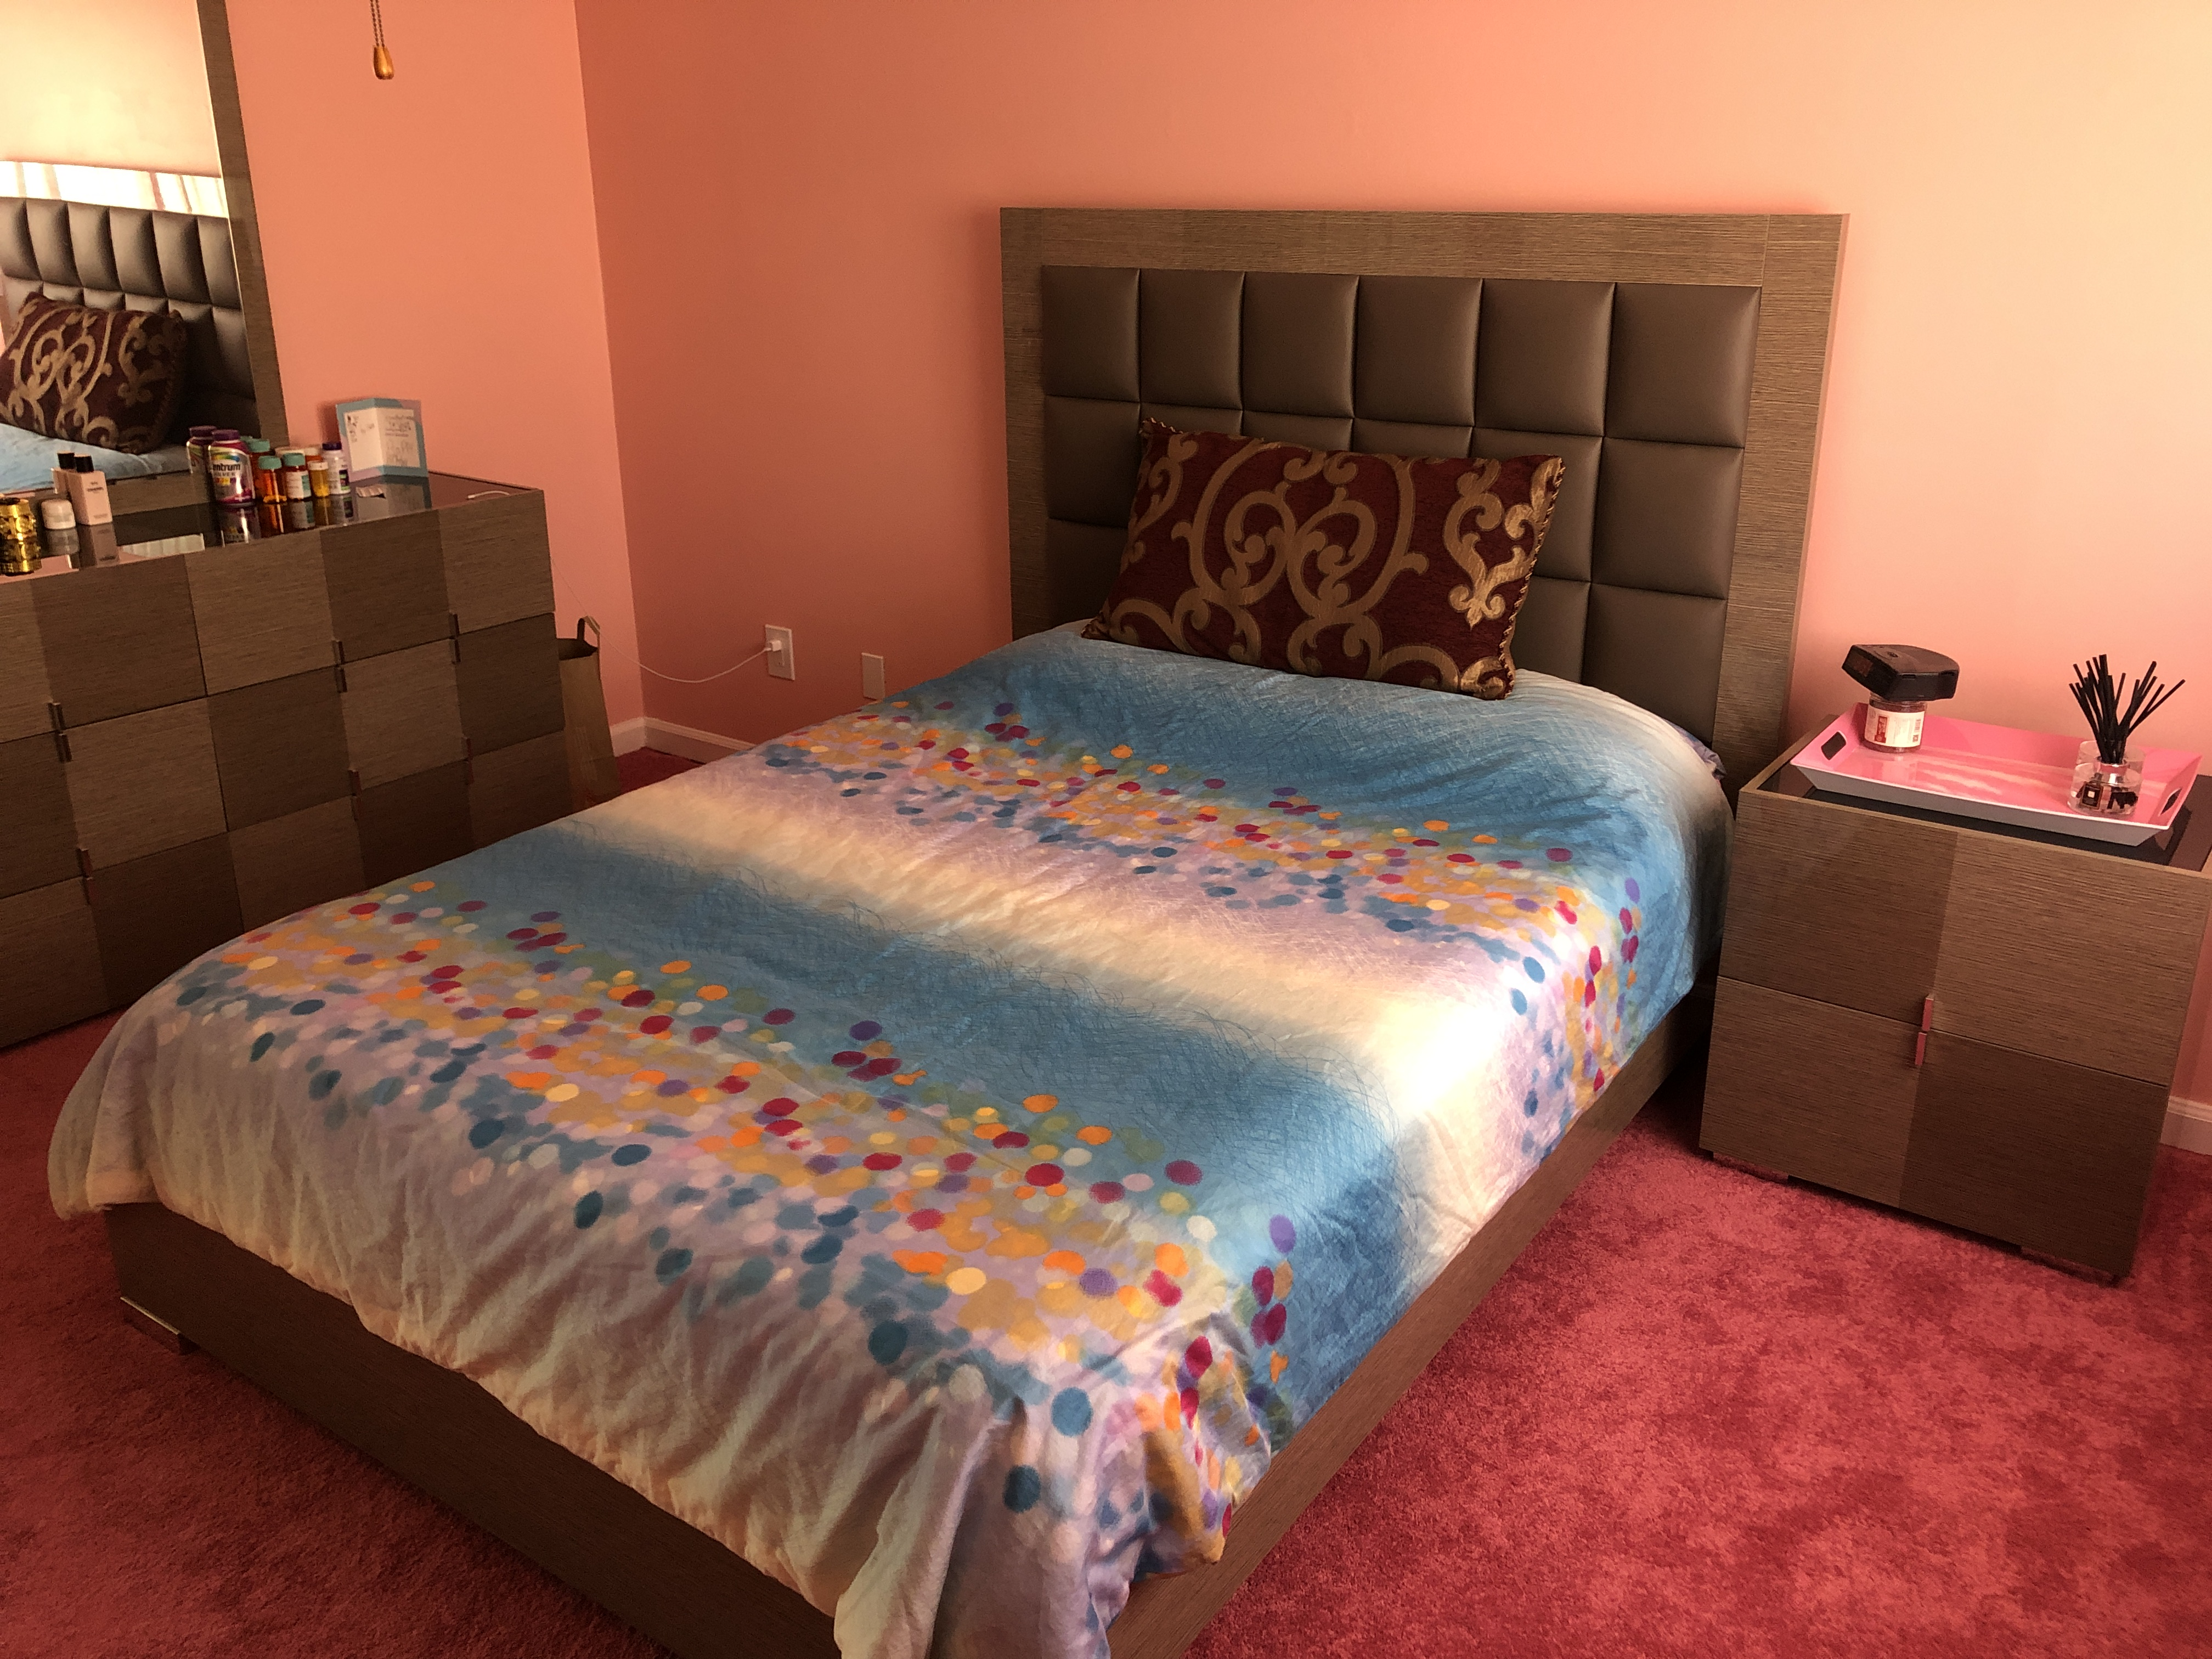bed: (110, 206, 1844, 1659)
dresser: (3, 450, 566, 1039)
night stand: (1695, 699, 2212, 1291)
